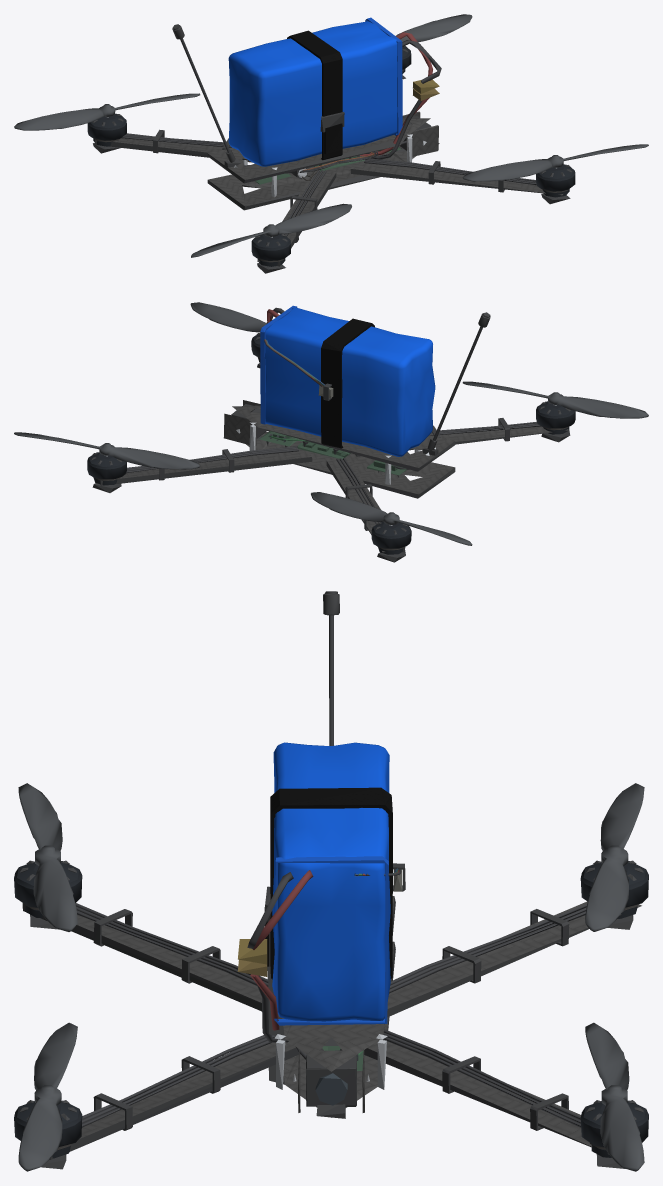
Rendered from Drone_OpenFrame_v8_LOD1.glb.
The picture shows the model from 3 angles, top to bottom: view 1: azimuth 30°, elevation 25°; view 2: azimuth 150°, elevation 25°; view 3: azimuth 270°, elevation 25°; orthographic projection. The views are drawn at different scales.
Visible parts, largest first — view 1: Battery_LOD1, Frame_LowerPlate_LOD1, Frame_TopPlate_LOD1, Battery_MainStrap_LOD1, Frame_Arm_FR_LOD1, Prop_RL_CW_LOD1, Prop_FR_CW_LOD1, Prop_RR_CCW_LOD1, Frame_Arm_RL_LOD1, Frame_Arm_RR_LOD1, Motor_RR_LOD1, Prop_FL_CCW_LOD1 (+6 smaller); view 2: Battery_LOD1, Frame_LowerPlate_LOD1, Battery_MainStrap_LOD1, Frame_TopPlate_LOD1, Frame_Arm_FL_LOD1, Prop_FL_CCW_LOD1, Prop_RR_CCW_LOD1, Prop_RL_CW_LOD1, Prop_FR_CW_LOD1, Motor_RL_LOD1, Frame_Arm_RL_LOD1, Motor_RR_LOD1 (+6 smaller); view 3: Battery_LOD1, Prop_FL_CCW_LOD1, Prop_FR_CW_LOD1, Prop_RR_CCW_LOD1, Prop_RL_CW_LOD1, Frame_Arm_FR_LOD1, Frame_Arm_FL_LOD1, Frame_Arm_RL_LOD1, Frame_Arm_RR_LOD1, Battery_MainStrap_LOD1, Frame_TopPlate_LOD1, Battery_WrapFold_LOD1 (+6 smaller).
Boxes of the visible parts, x1=… form: Battery_LOD1: x1=228, y1=21, x2=397, y2=166; Frame_LowerPlate_LOD1: x1=207, y1=146, x2=415, y2=210; Frame_TopPlate_LOD1: x1=207, y1=118, x2=430, y2=183; Battery_MainStrap_LOD1: x1=287, y1=30, x2=342, y2=160; Frame_Arm_FR_LOD1: x1=350, y1=160, x2=563, y2=195; Prop_RL_CW_LOD1: x1=14, y1=93, x2=200, y2=130; Prop_FR_CW_LOD1: x1=462, y1=144, x2=648, y2=181; Prop_RR_CCW_LOD1: x1=191, y1=203, x2=351, y2=257; Frame_Arm_RL_LOD1: x1=95, y1=138, x2=252, y2=162; Frame_Arm_RR_LOD1: x1=257, y1=170, x2=336, y2=266; Motor_RR_LOD1: x1=251, y1=234, x2=290, y2=266; Prop_FL_CCW_LOD1: x1=396, y1=14, x2=472, y2=42; Battery_LOD1: x1=265, y1=307, x2=435, y2=456; Frame_LowerPlate_LOD1: x1=246, y1=432, x2=455, y2=498; Battery_MainStrap_LOD1: x1=321, y1=318, x2=374, y2=448; Frame_TopPlate_LOD1: x1=232, y1=405, x2=455, y2=471; Frame_Arm_FL_LOD1: x1=100, y1=449, x2=312, y2=485; Prop_FL_CCW_LOD1: x1=14, y1=432, x2=199, y2=469; Prop_RR_CCW_LOD1: x1=462, y1=381, x2=648, y2=418; Prop_RL_CW_LOD1: x1=311, y1=492, x2=472, y2=545; Prop_FR_CW_LOD1: x1=190, y1=302, x2=266, y2=332; Motor_RL_LOD1: x1=371, y1=522, x2=411, y2=554; Frame_Arm_RL_LOD1: x1=326, y1=458, x2=404, y2=552; Motor_RR_LOD1: x1=536, y1=401, x2=575, y2=434; Battery_LOD1: x1=272, y1=742, x2=390, y2=1021; Prop_FL_CCW_LOD1: x1=585, y1=1022, x2=644, y2=1171; Prop_FR_CW_LOD1: x1=18, y1=1022, x2=77, y2=1171; Prop_RR_CCW_LOD1: x1=18, y1=783, x2=77, y2=931; Prop_RL_CW_LOD1: x1=585, y1=783, x2=644, y2=931; Frame_Arm_FR_LOD1: x1=50, y1=1042, x2=299, y2=1159; Frame_Arm_FL_LOD1: x1=364, y1=1039, x2=608, y2=1154; Frame_Arm_RL_LOD1: x1=387, y1=901, x2=641, y2=1017; Frame_Arm_RR_LOD1: x1=22, y1=903, x2=261, y2=1011; Battery_MainStrap_LOD1: x1=270, y1=787, x2=392, y2=979; Frame_TopPlate_LOD1: x1=268, y1=896, x2=395, y2=1071; Battery_WrapFold_LOD1: x1=274, y1=856, x2=388, y2=1025.
Bounding box in the file's own units: 0.4662 × 0.1816 × 0.325.
22 materials, 2 textured.
